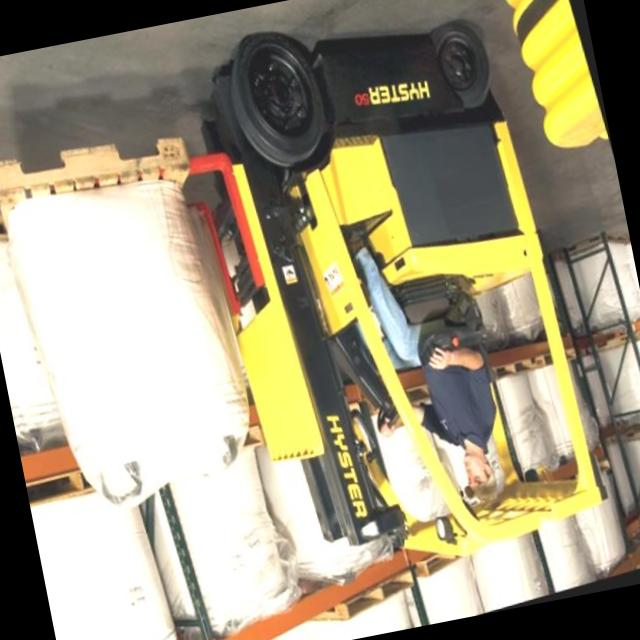driver: (339, 201, 526, 532)
forklift: (134, 0, 640, 635)
